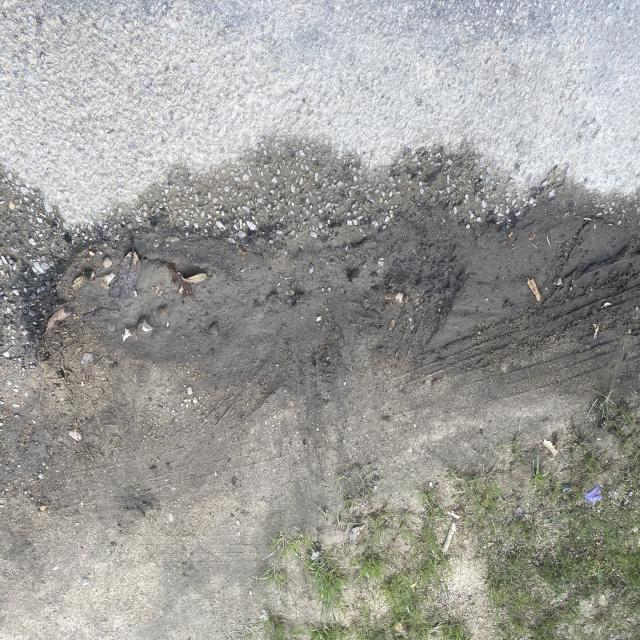Pothole: (63, 159, 461, 372)
